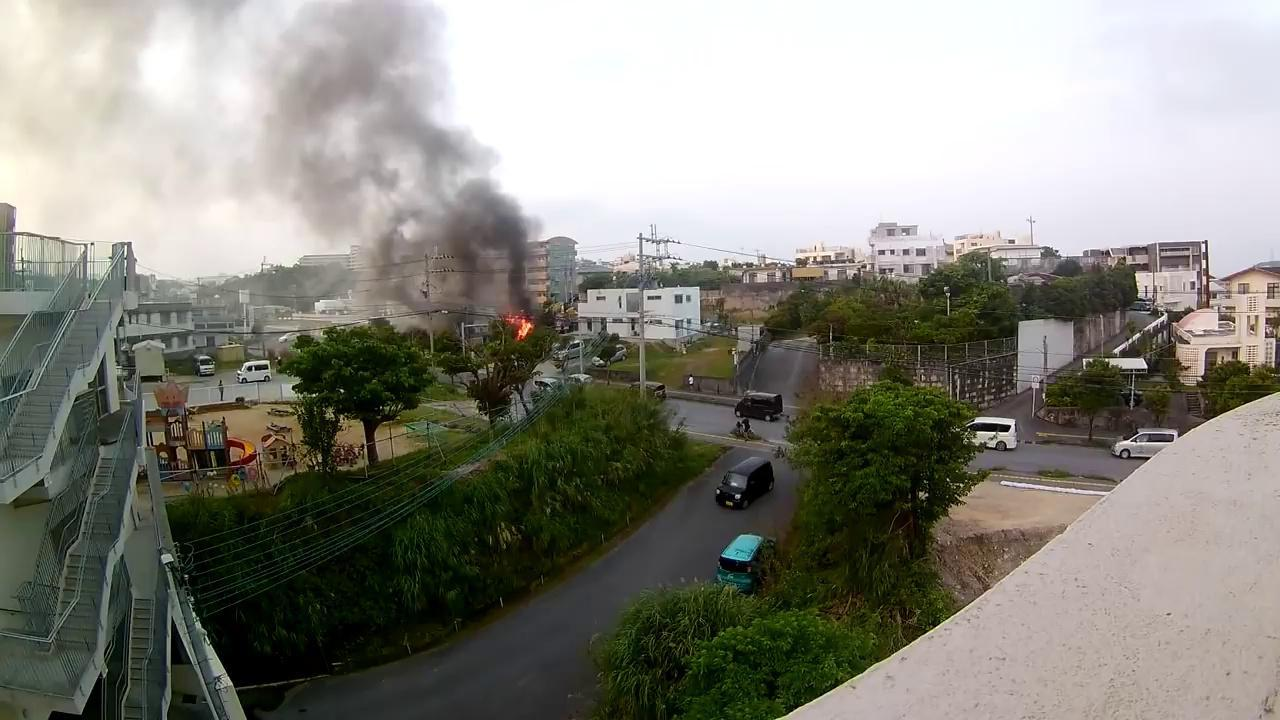Fire: (513, 316, 536, 340)
